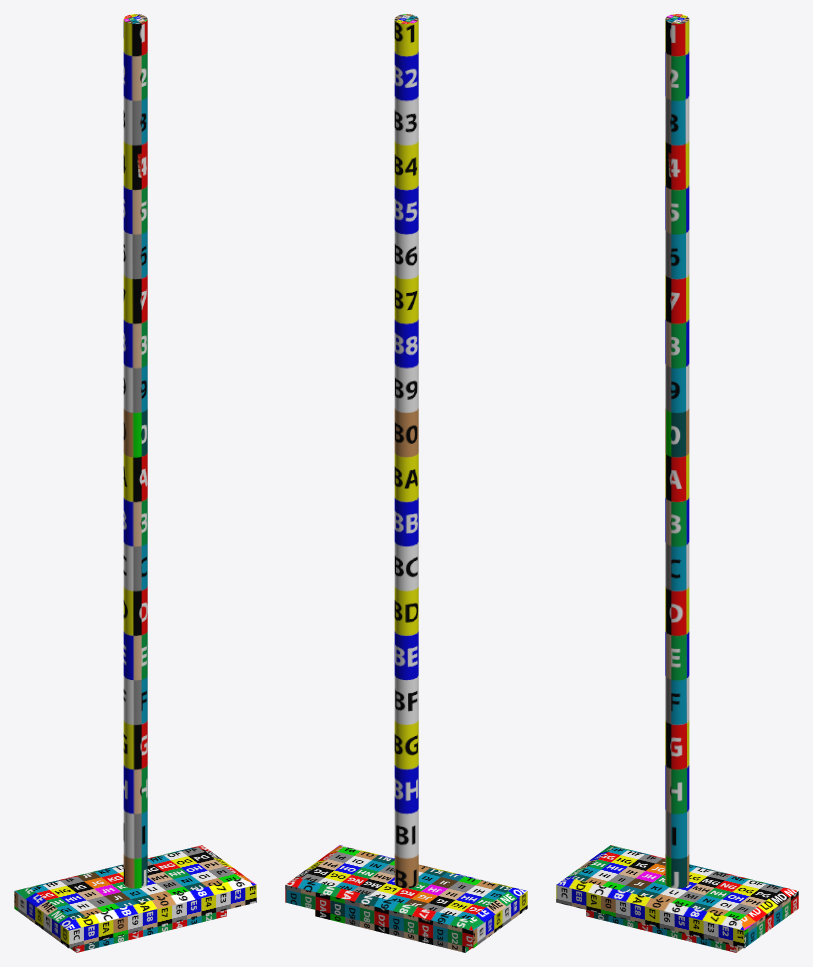
The model's file is Broom.FBX.
3 renders of one model, left to right at view 1: azimuth 30°, elevation 25°; view 2: azimuth 150°, elevation 25°; view 3: azimuth 330°, elevation 25°, orthographic.
Visible parts, largest first — view 1: Broom; view 2: Broom; view 3: Broom.
Part boxes in pixels (bbox=[...]): Broom: bbox=[14, 14, 256, 952]; Broom: bbox=[285, 14, 527, 952]; Broom: bbox=[556, 14, 798, 952].
Bounding box in the file's own units: 0.4484 × 2.06 × 0.2242.
1 material, 1 textured.
